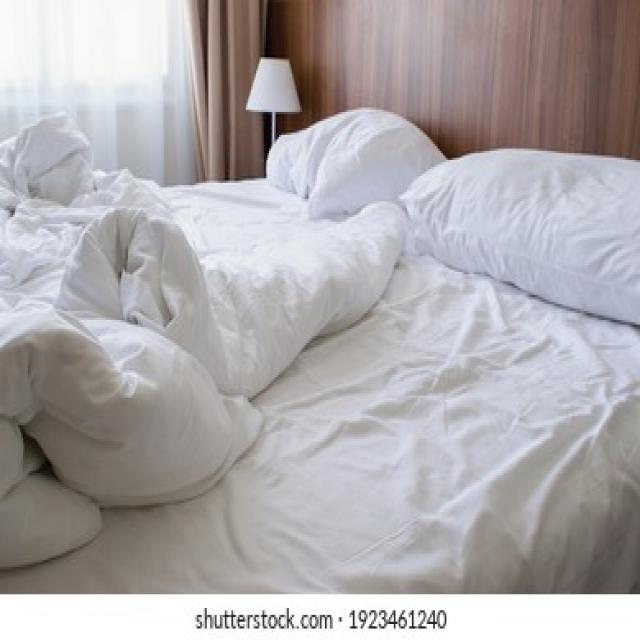bed: (0, 106, 640, 594)
